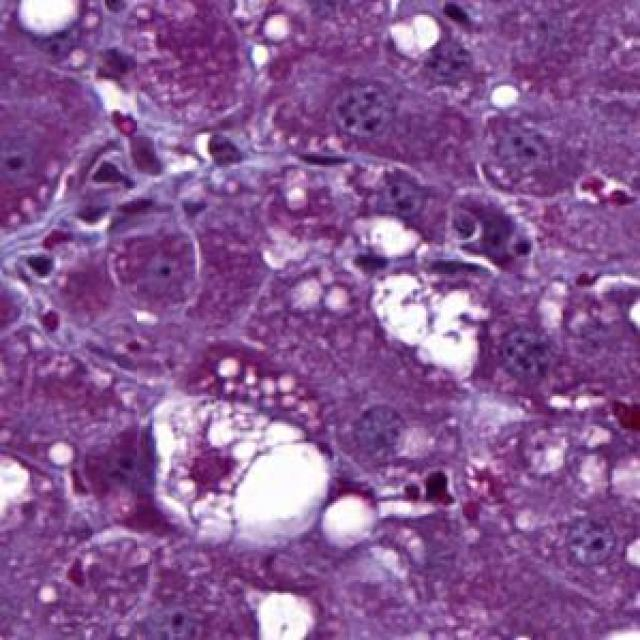ballooning: (150, 381, 332, 557)
